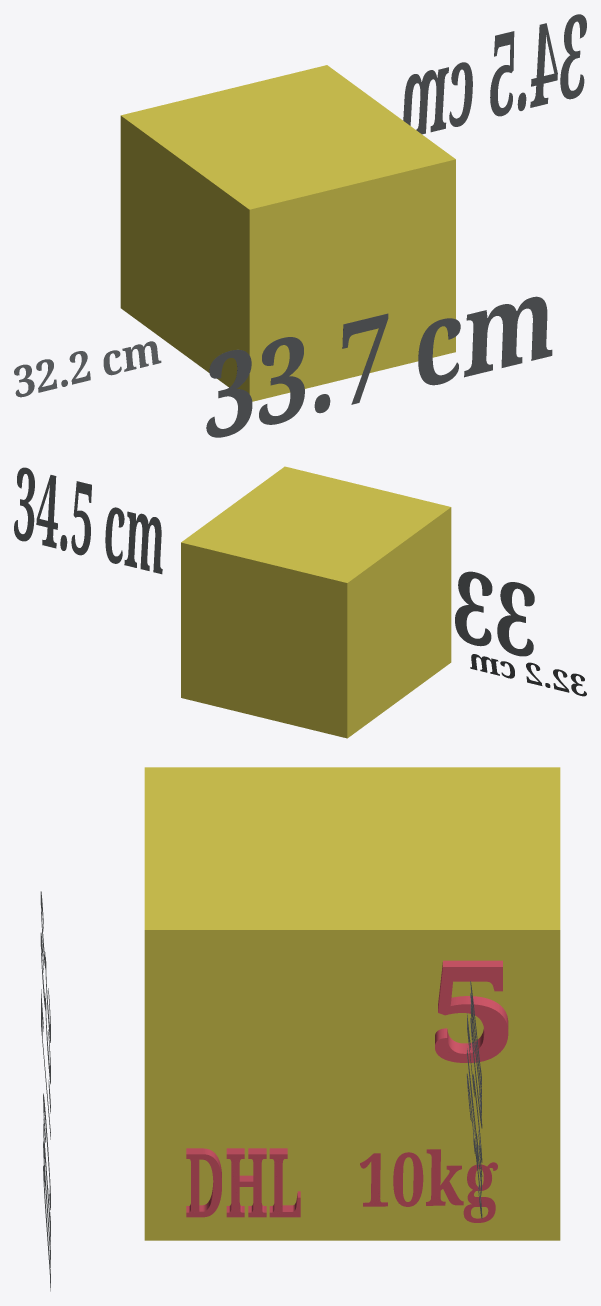
The model's file is caja e.glb.
The picture shows the model from 3 angles, top to bottom: view 1: azimuth 30°, elevation 25°; view 2: azimuth 150°, elevation 25°; view 3: azimuth 270°, elevation 25°; orthographic projection. The views are drawn at different scales.
Visible parts, largest first — view 1: Mesh_Mesh_head_geo.001_lambert2SG.001; view 2: Mesh_Mesh_head_geo.001_lambert2SG.001; view 3: Mesh_Mesh_head_geo.001_lambert2SG.001.
Boxes of the visible parts, <box> form: Mesh_Mesh_head_geo.001_lambert2SG.001: <box>14,14,586,437</box>; Mesh_Mesh_head_geo.001_lambert2SG.001: <box>14,466,586,738</box>; Mesh_Mesh_head_geo.001_lambert2SG.001: <box>40,767,560,1291</box>.
Bounding box in the file's own units: 115 × 36.03 × 50.
